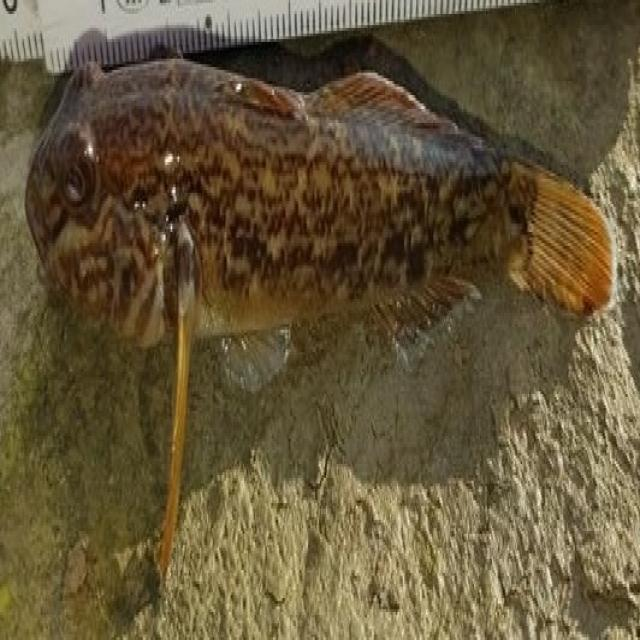Goby: (26, 44, 616, 473)
